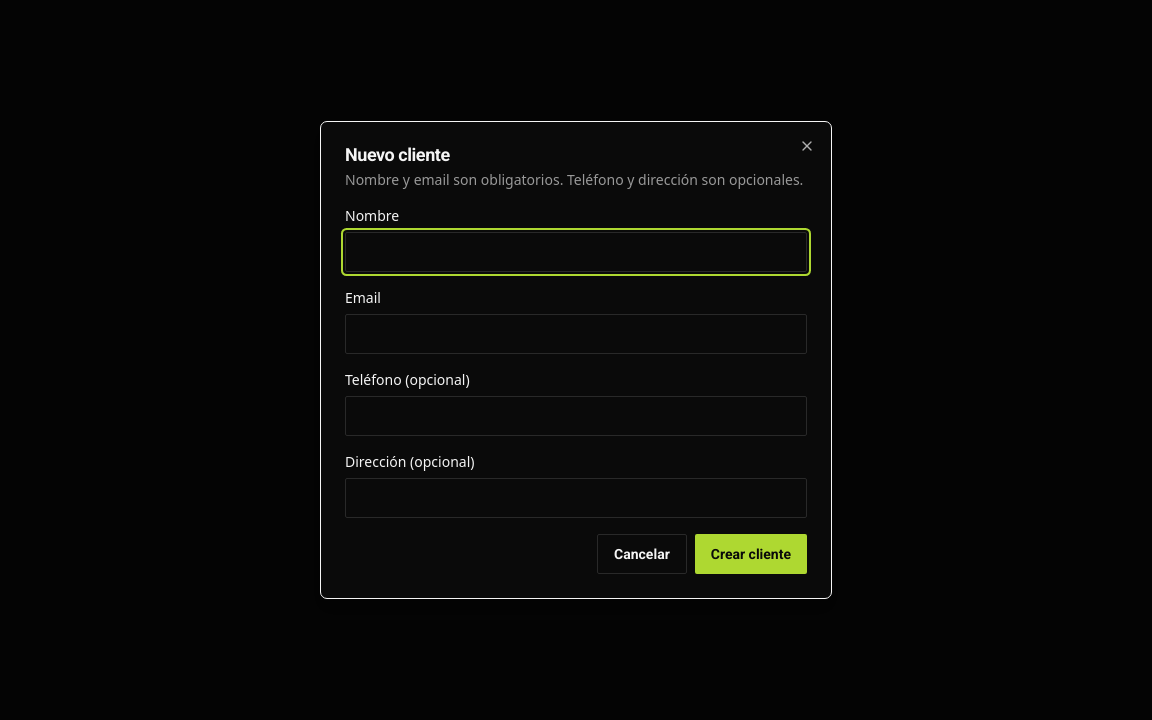
ClientFormModal › muestra errores de validación cuando se envía vacío
The image size is (1152, 720).
Click the button "Crear cliente" at (751, 554), box [695,534,807,574]
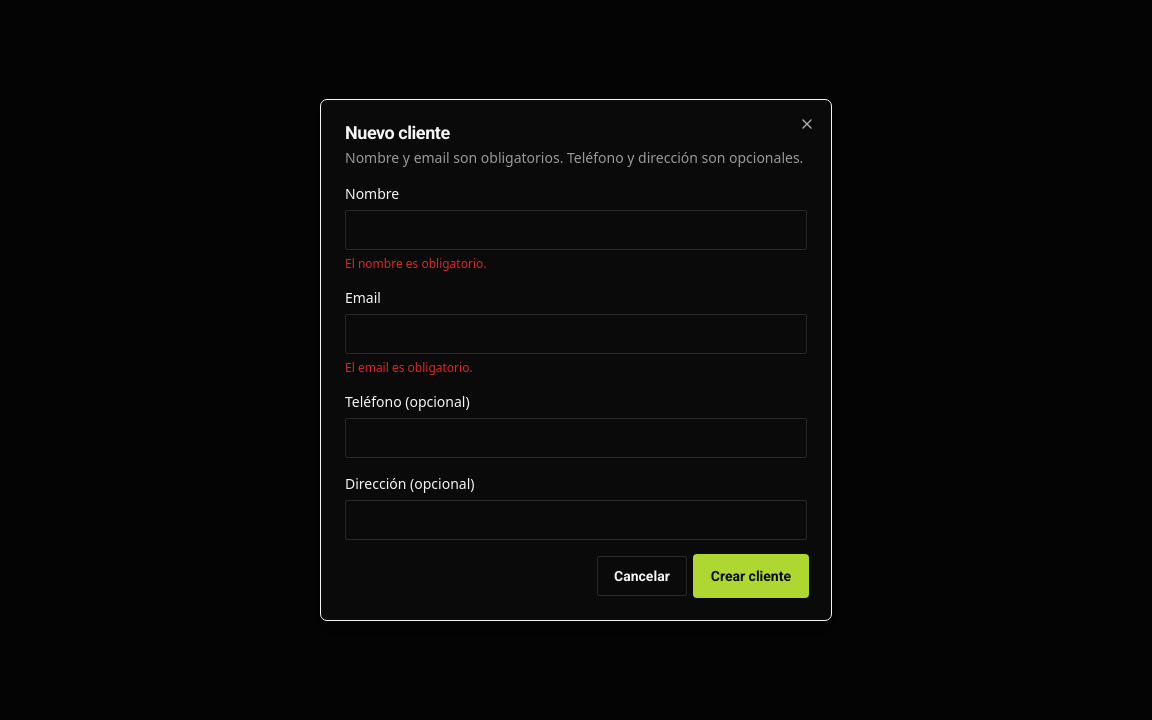
expect the text "El nombre es obligatorio." is shown: met, box [345,255,486,272]
expect the text "El email es obligatorio." is shown: met, box [345,359,473,376]
